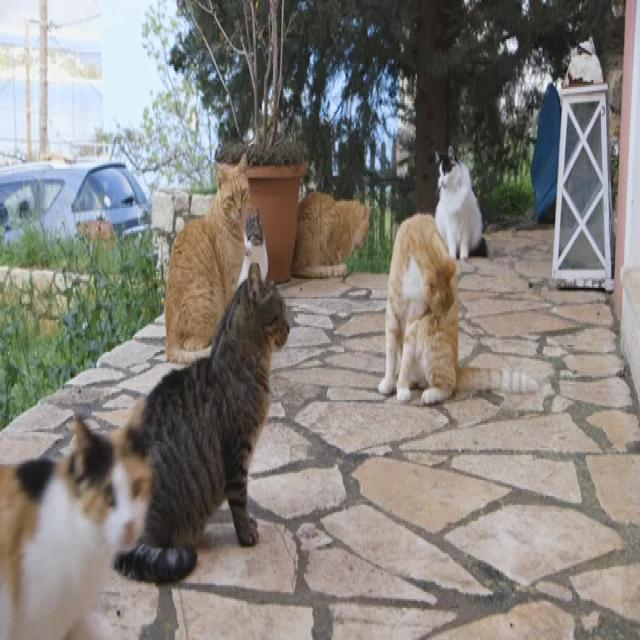cat: (115, 264, 289, 581), (0, 420, 151, 637), (379, 213, 538, 404), (165, 156, 249, 363), (291, 193, 370, 277), (435, 147, 488, 259), (239, 209, 268, 286), (564, 38, 604, 87)
